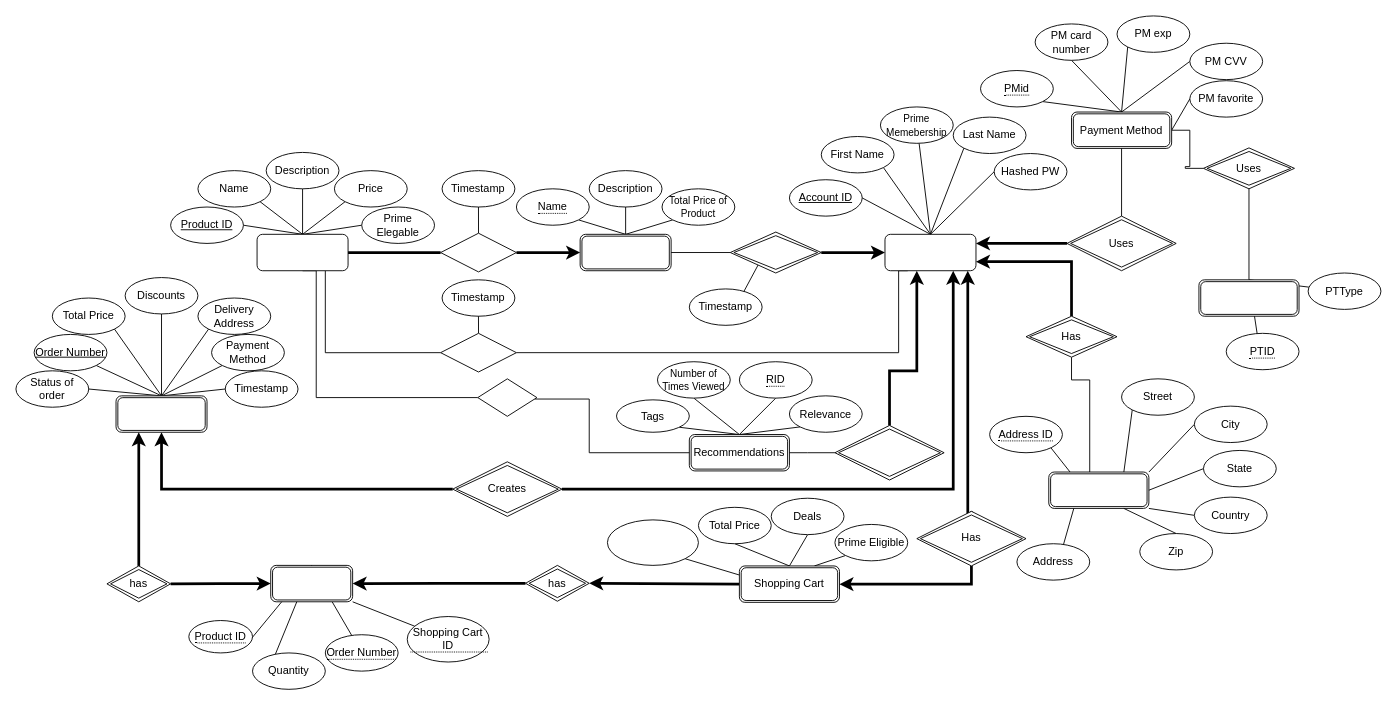
The diagram is 1397 pixels wide and 705 high, and some of its shapes have lost their labels. The shapes that lost their labels are listed below. From the top down, each one's box as (x1, y1, x2, y2) in pixels, then its label:
(256, 233, 348, 271): Product
(440, 232, 516, 272): Added To
(579, 233, 671, 271): Watchlist
(729, 231, 821, 273): Created
(884, 233, 976, 271): User
(1198, 279, 1299, 316): Payment Type
(440, 332, 516, 372): Viewed
(115, 395, 207, 432): Order
(477, 378, 537, 416): in
(834, 425, 944, 480): Recommends
(1048, 471, 1149, 508): Adderss
(607, 519, 698, 565): Shopping Cart ID
(270, 564, 353, 602): Product List
